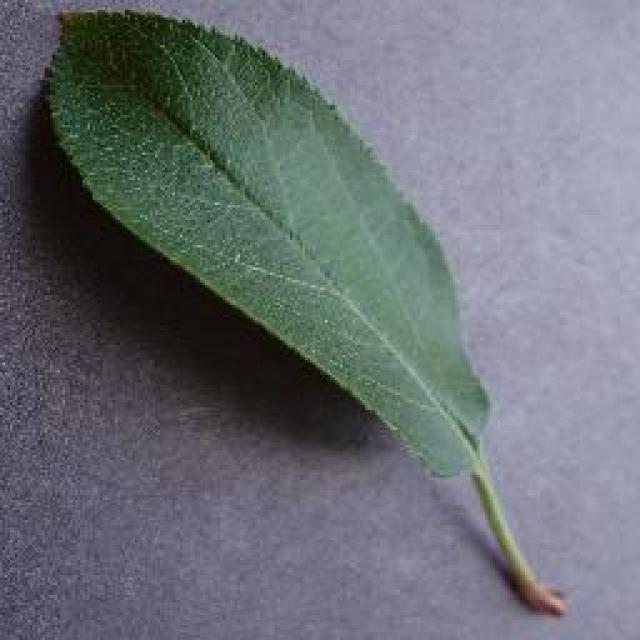apple healthy: (38, 2, 568, 618)
